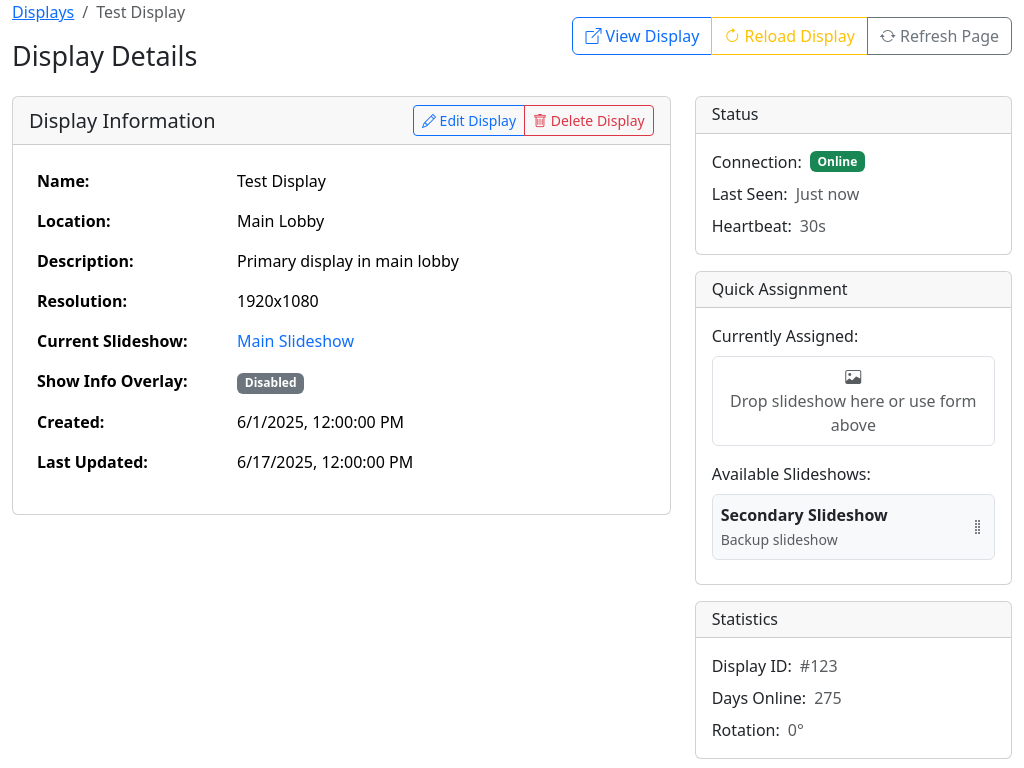
Test: DisplayDetail › opens delete confirmation modal
# Click delete button
Click the button "Delete Display" at [589, 121], box [524,105,654,136]
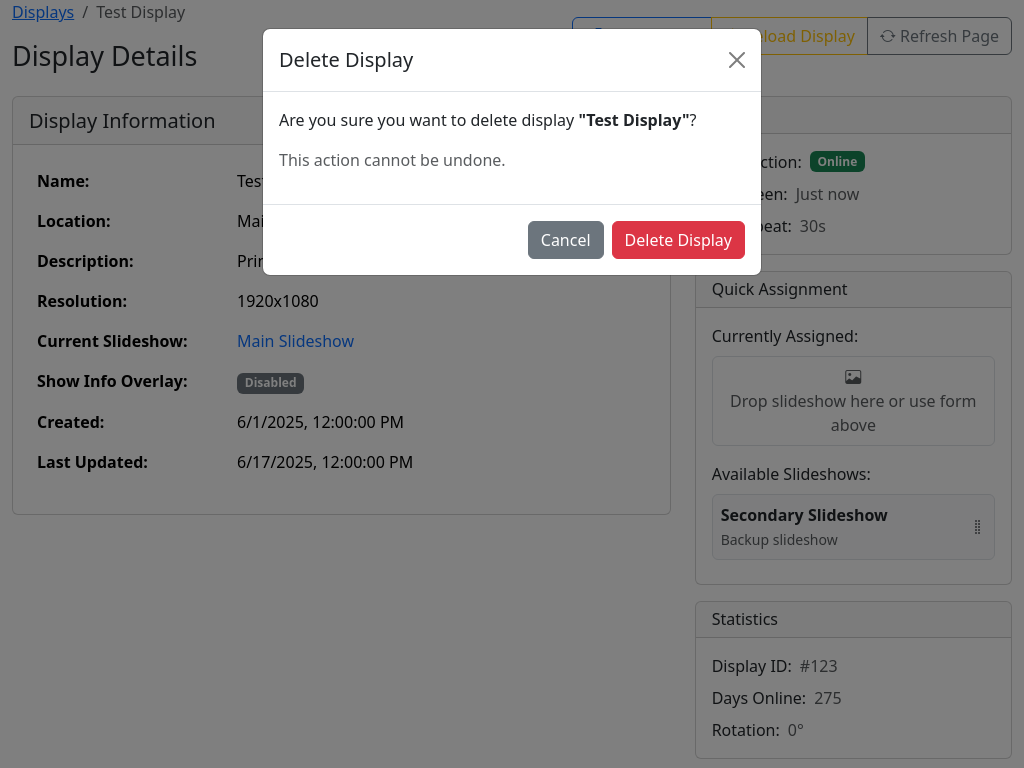
Check: the text "Are you sure you want to delete display \"Test Display\"?" is shown, box [279,108,745,132]
Check: the text "\"Test Display\"" is shown, box [578,109,690,131]
Check: the text "This action cannot be undone." is shown, box [279,149,506,171]
